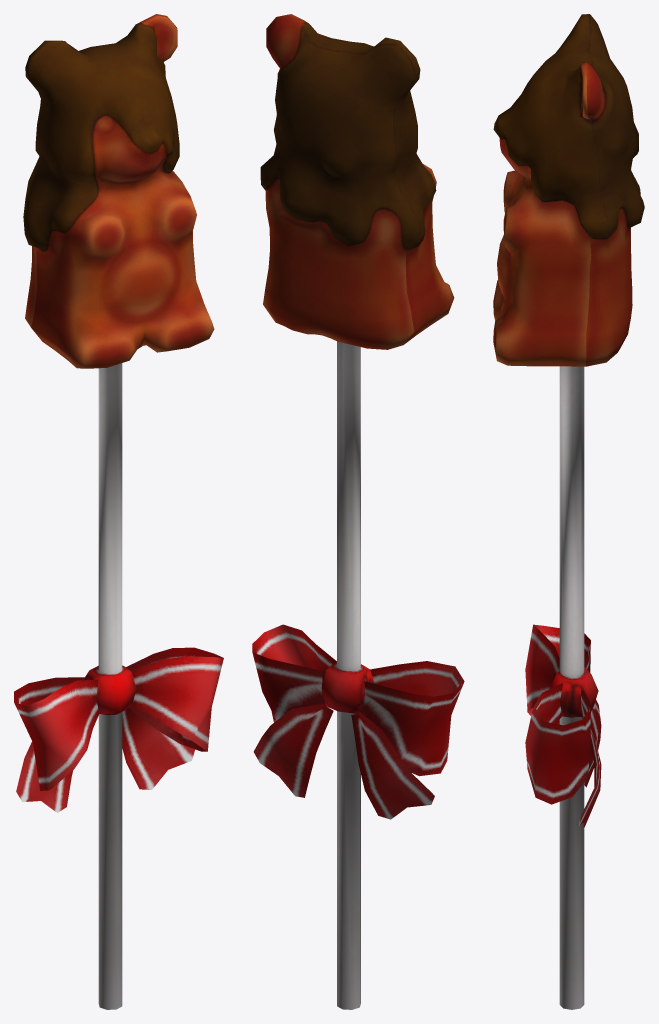
3 views of the same model, side by side, from view 1: azimuth 30°, elevation 25°; view 2: azimuth 150°, elevation 25°; view 3: azimuth 270°, elevation 25° (orthographic).
Visible parts, largest first — view 1: AN_PC_WP_MAC0101_EC_A00.002; view 2: AN_PC_WP_MAC0101_EC_A00.002; view 3: AN_PC_WP_MAC0101_EC_A00.002.
Boxes of the visible parts, box(x1,y1,x2,y2) form: AN_PC_WP_MAC0101_EC_A00.002: box(14, 14, 223, 1009); AN_PC_WP_MAC0101_EC_A00.002: box(252, 14, 464, 1009); AN_PC_WP_MAC0101_EC_A00.002: box(493, 14, 644, 1009).
Bounding box in the file's own units: 0.0423 × 0.1965 × 0.028.
1 material, 1 textured.
